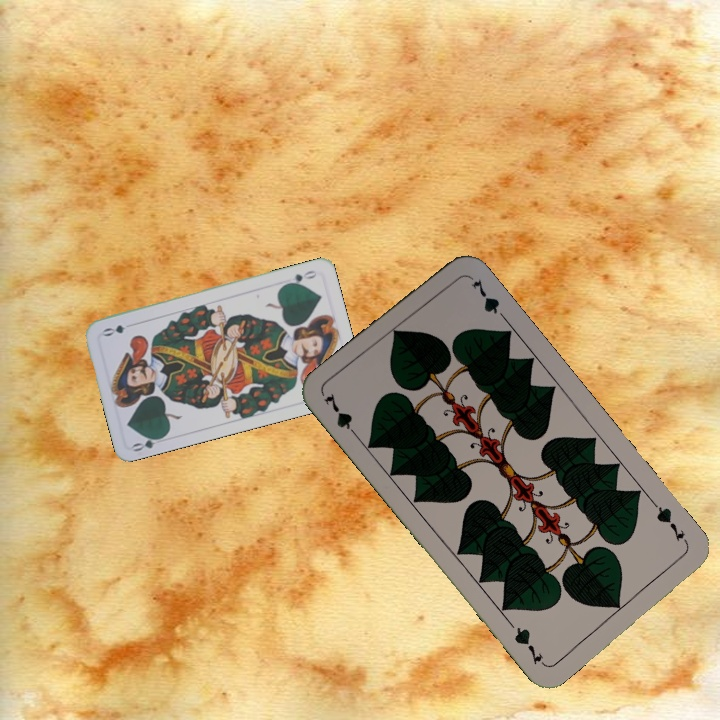G7: (319, 389, 362, 442), (649, 499, 691, 548)
GO: (128, 431, 168, 454), (281, 266, 319, 288)
